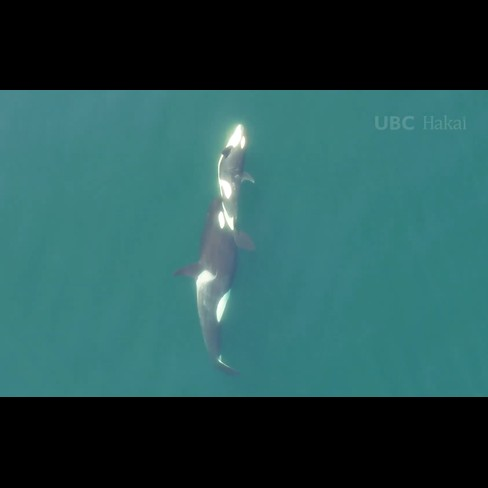orca: (174, 187, 247, 385), (211, 118, 265, 258)
